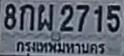1: (93, 4, 103, 32)
2: (60, 4, 74, 32)
5: (106, 4, 121, 33)
7: (76, 4, 90, 32)
8: (3, 3, 17, 30)
A01: (19, 3, 35, 32)
A28: (37, 3, 54, 31)
BKK: (13, 38, 108, 56)
